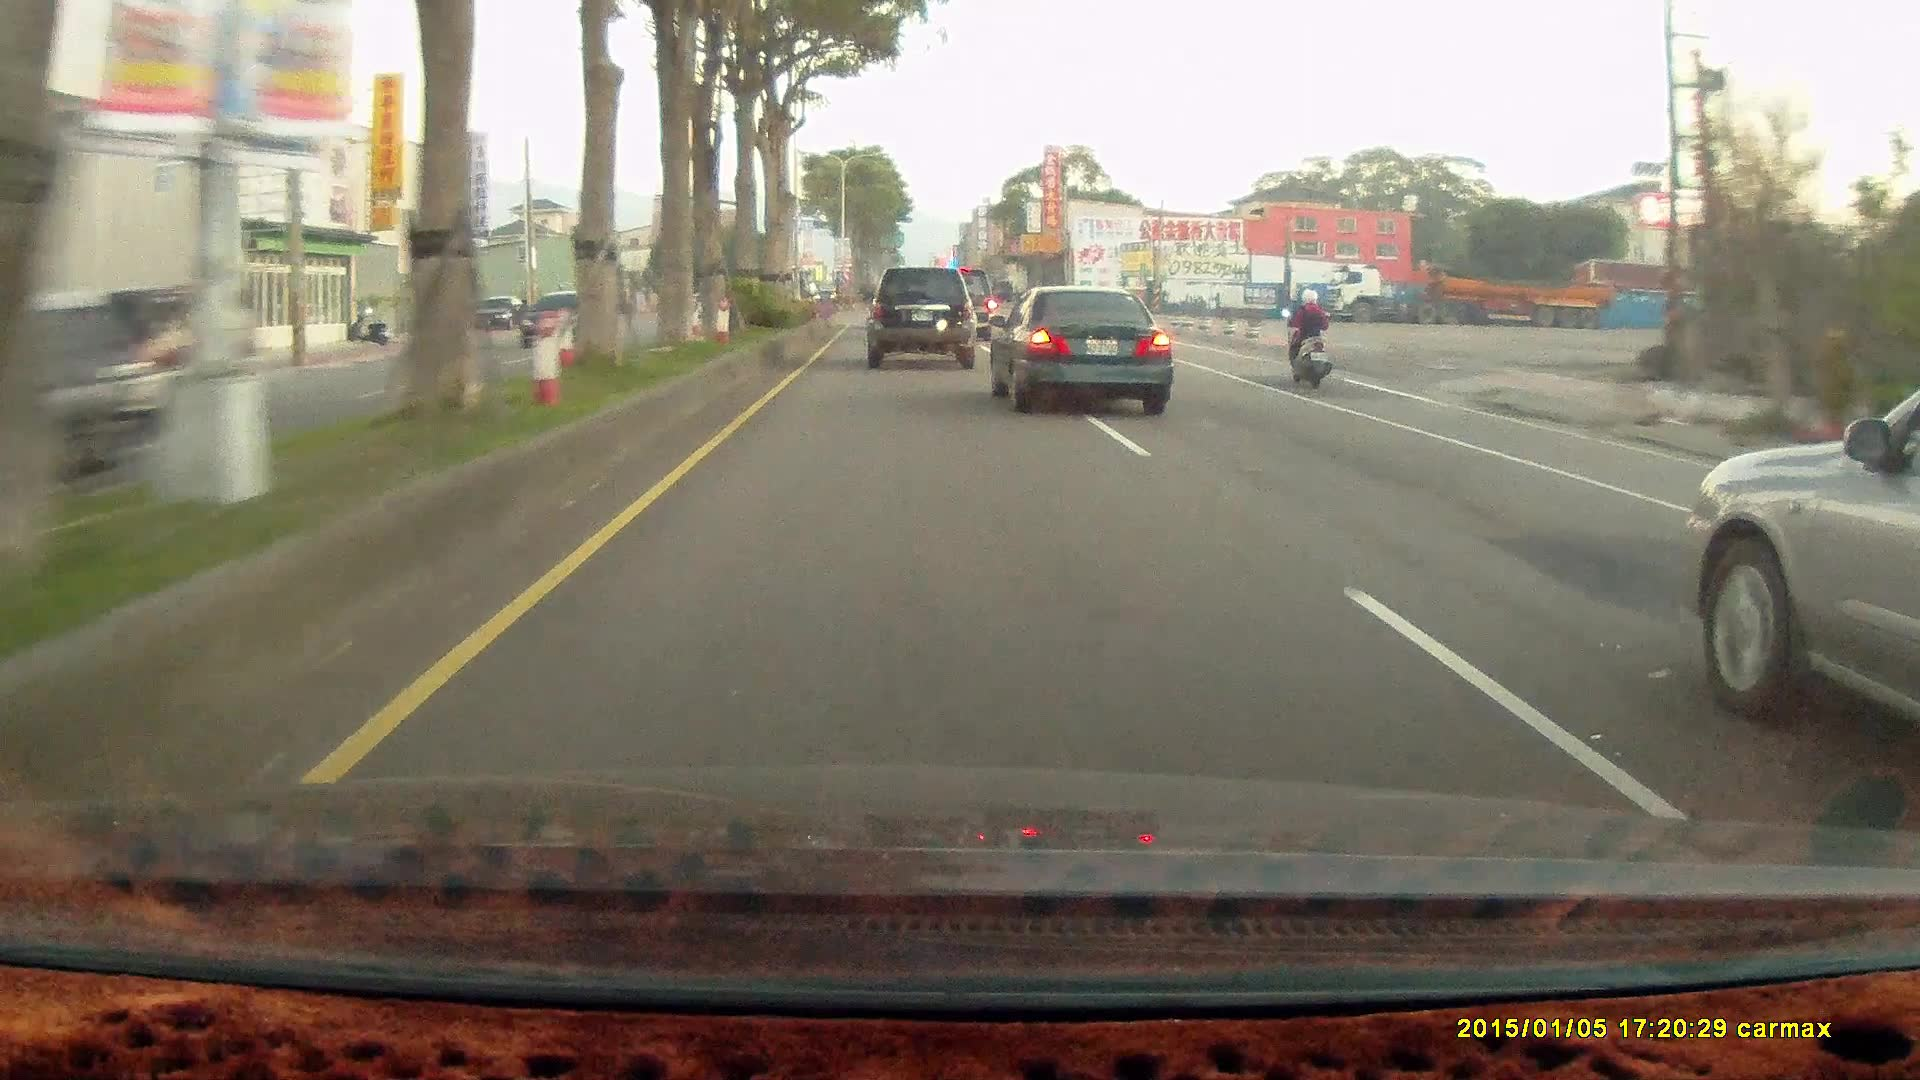rider: (1273, 278, 1343, 399), (1282, 285, 1333, 386)
vehicle: (1693, 378, 1920, 758), (0, 285, 255, 479), (37, 285, 203, 453), (985, 285, 1173, 411), (988, 284, 1172, 413), (1332, 262, 1613, 329), (867, 266, 979, 371), (864, 266, 976, 367), (928, 270, 997, 347), (519, 289, 609, 346), (473, 292, 527, 329)
